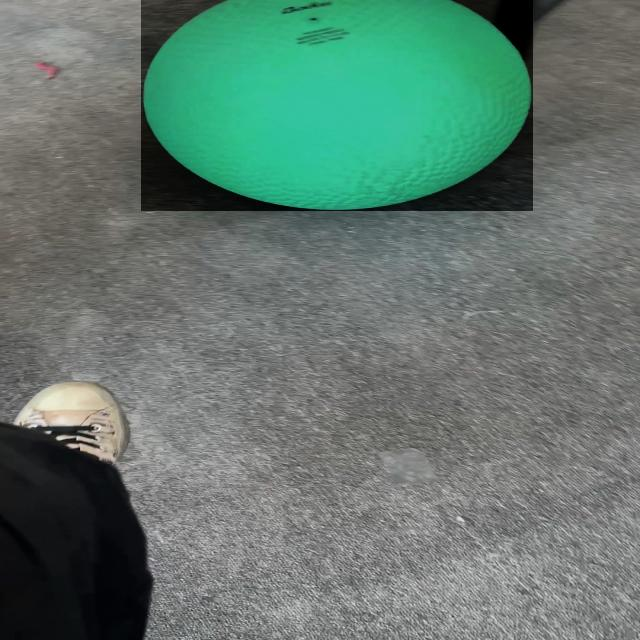Algae: (141, 0, 533, 211)
